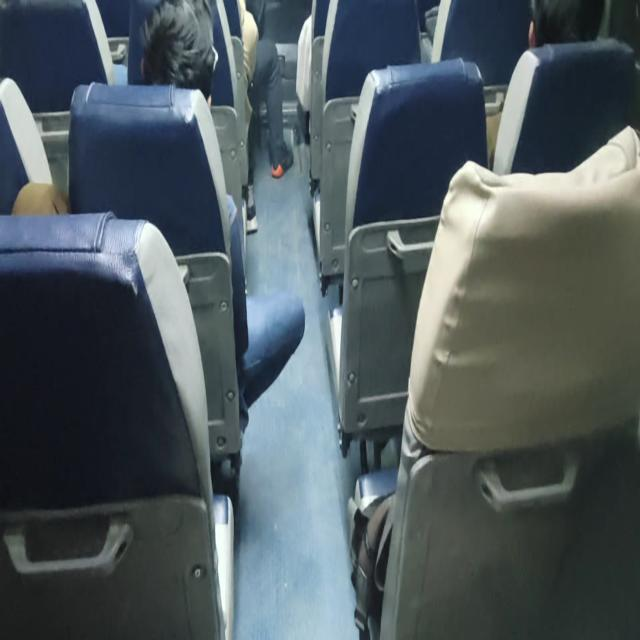person: (137, 1, 306, 436), (138, 0, 256, 235), (485, 0, 611, 167), (242, 4, 295, 178), (138, 0, 217, 107), (527, 0, 611, 48)
